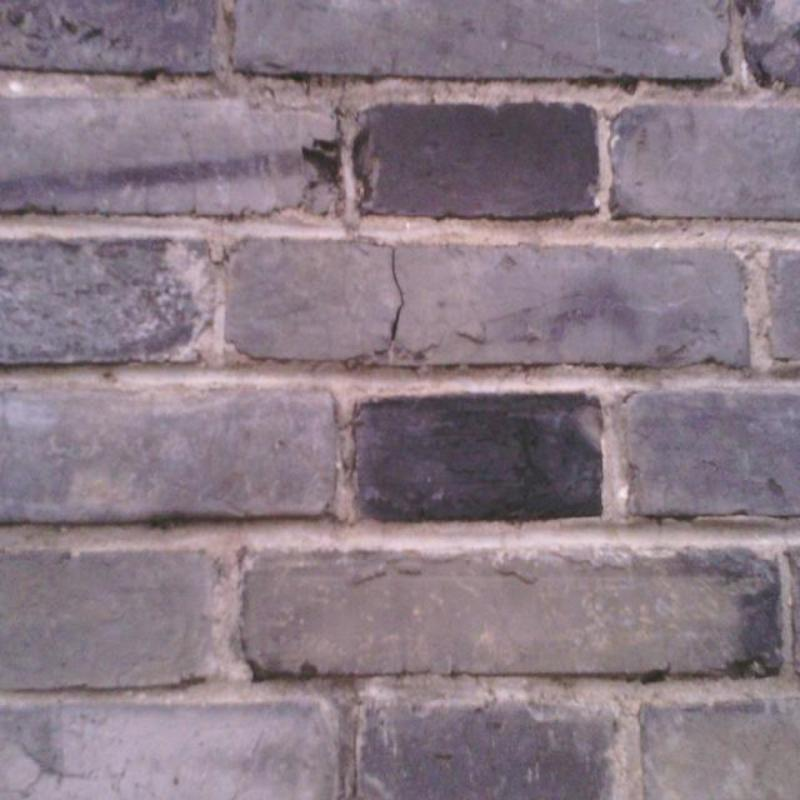pothole: (392, 249, 405, 341)
